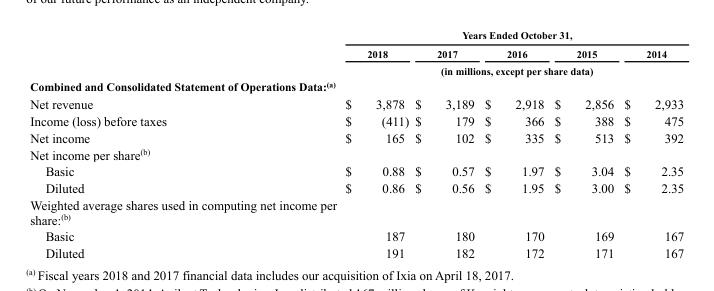table: (29, 29, 683, 259)
table column: (29, 29, 255, 259), (255, 29, 411, 259), (478, 29, 548, 259), (548, 29, 618, 259), (411, 29, 478, 259), (618, 29, 683, 259)
table column header: (29, 29, 683, 77)
table projected row header: (29, 196, 683, 227), (29, 77, 683, 94), (29, 145, 683, 162)
table row: (29, 196, 683, 227), (29, 94, 683, 112), (29, 44, 683, 61), (29, 77, 683, 94), (29, 112, 683, 129), (29, 145, 683, 162), (29, 162, 683, 179), (29, 179, 683, 196), (29, 227, 683, 244), (29, 61, 683, 77), (29, 129, 683, 145), (29, 29, 683, 44), (29, 244, 683, 259)
table spanning cell: (255, 61, 683, 77), (255, 29, 683, 44)
